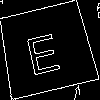E: (22, 24, 63, 76)
